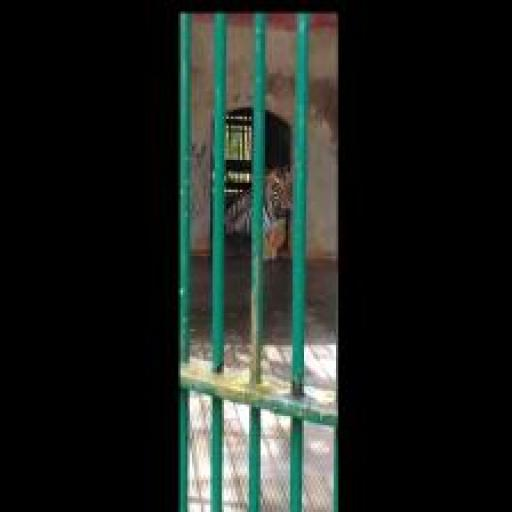Tiger: (226, 156, 294, 268)
